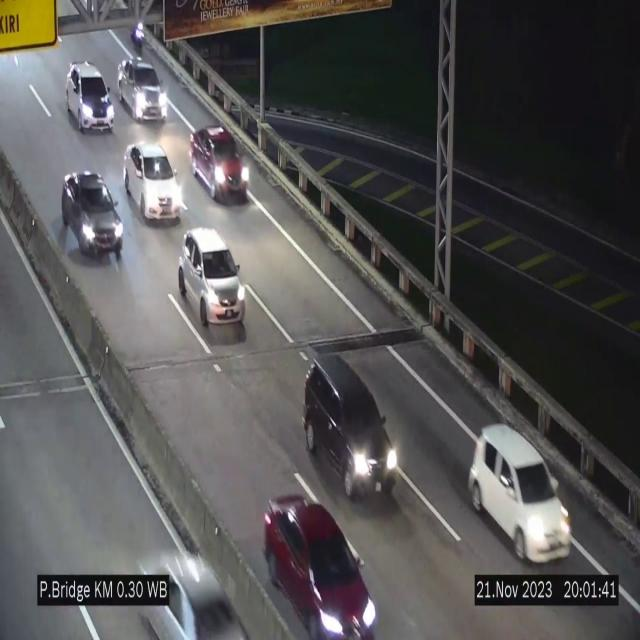Car: (264, 490, 381, 640), (469, 424, 574, 562), (306, 354, 396, 510), (128, 545, 254, 640), (178, 228, 246, 336), (190, 118, 255, 205), (62, 171, 123, 262), (124, 142, 183, 222), (66, 62, 114, 132), (118, 56, 166, 120)
Motorcycle: (129, 12, 147, 54)
